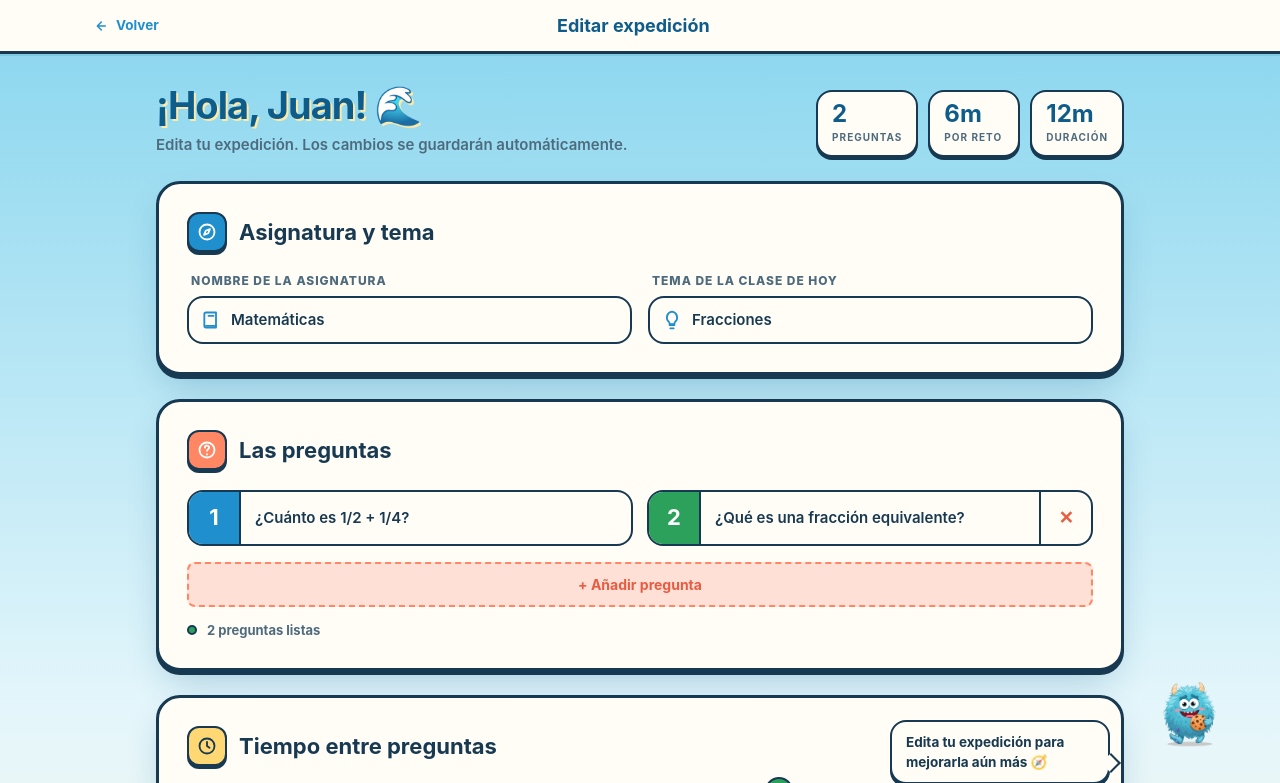
EditSession › habilita botón Guardar solo cuando hay datos válidos
# Vaciar asignatura
Clear the field showing "Matemáticas" below "Nombre de la asignatura": (410, 320) [187,296,632,344]
(page scrolled)
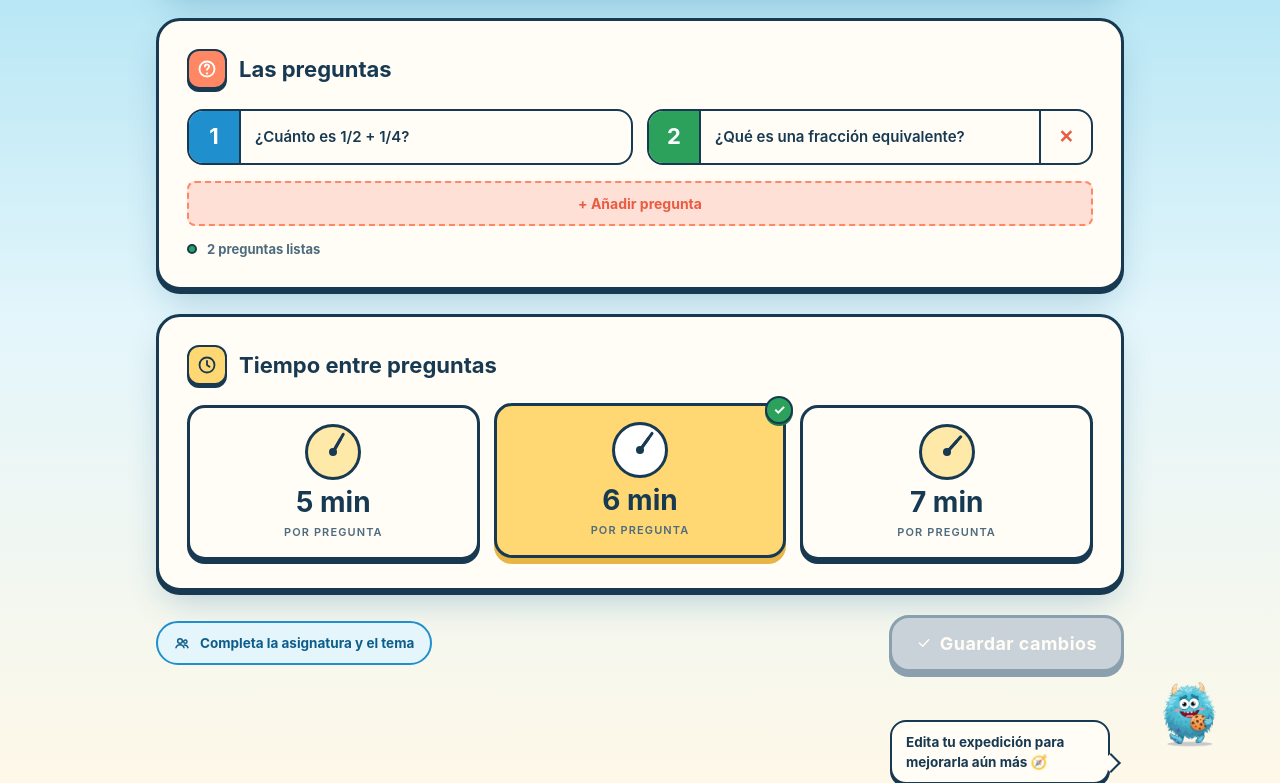
Now the button "Guardar cambios" is disabled, box [889,614,1124,672]
